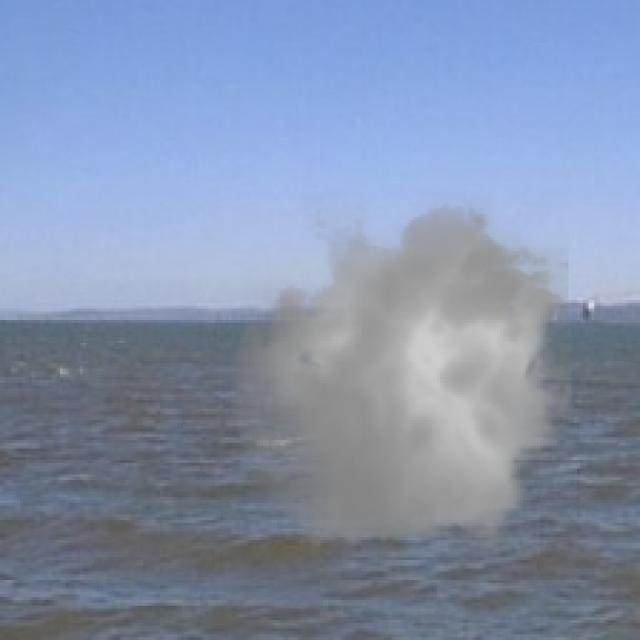Smoke: (220, 191, 586, 566)
